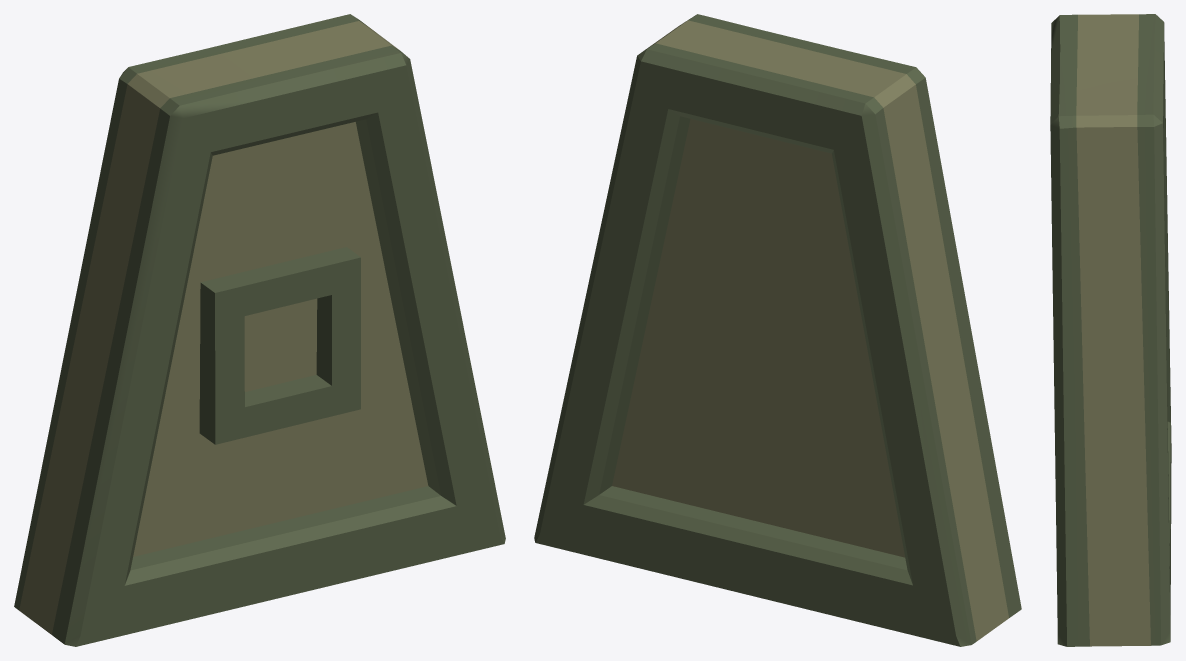
Rendered from temple_ear.fbx.
3 views of the same model, side by side, from view 1: azimuth 30°, elevation 25°; view 2: azimuth 150°, elevation 25°; view 3: azimuth 270°, elevation 25° (orthographic). The views are drawn at different scales.
Visible parts, largest first — view 1: temple_ear, temple_ear_decor; view 2: temple_ear; view 3: temple_ear.
Boxes of the visible parts, box(x1,y1,x2,y2) form: temple_ear: box(14, 14, 505, 646); temple_ear_decor: box(199, 247, 360, 444); temple_ear: box(534, 14, 1021, 646); temple_ear: box(1050, 14, 1171, 646).
Bounding box in the file's own units: 1.79 × 2.01 × 0.4564.
